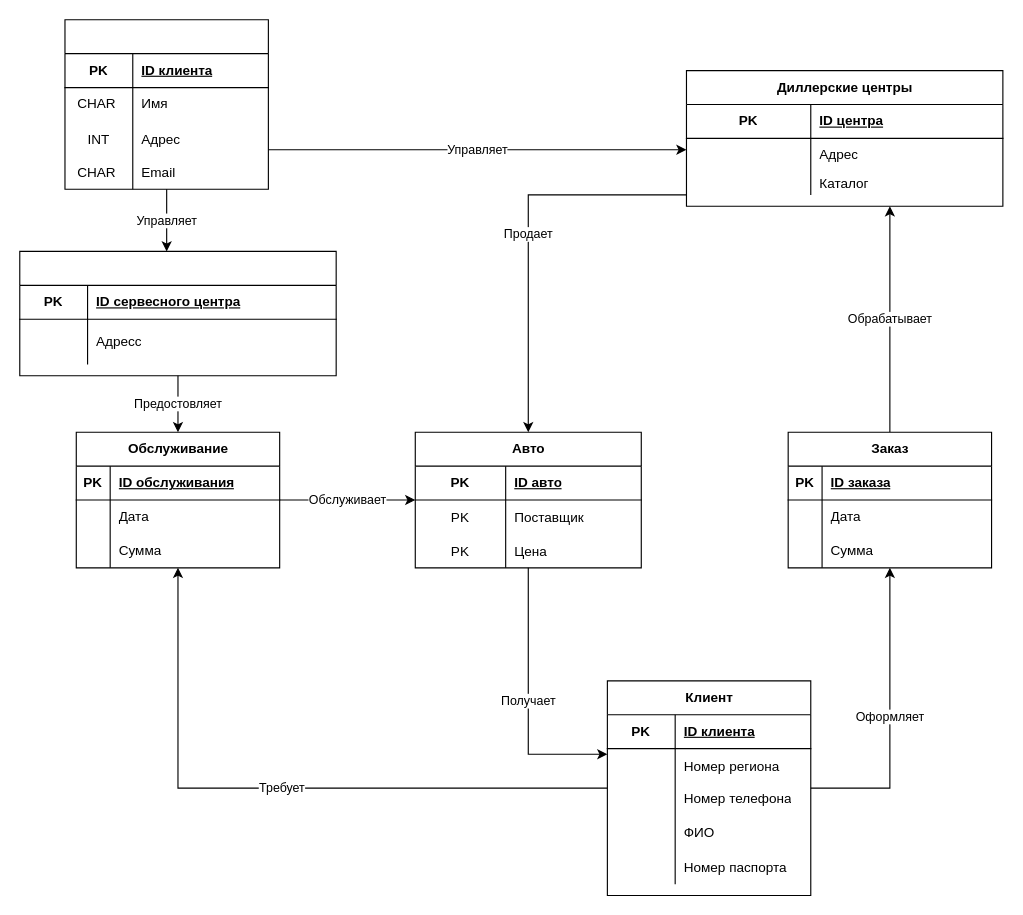
Image size: 1023x915. Some labels were removed from this diagram. Each missing label, with the box of its shape:
Компания: (64, 19, 268, 189)
Сервисные центры: (19, 250, 336, 376)
